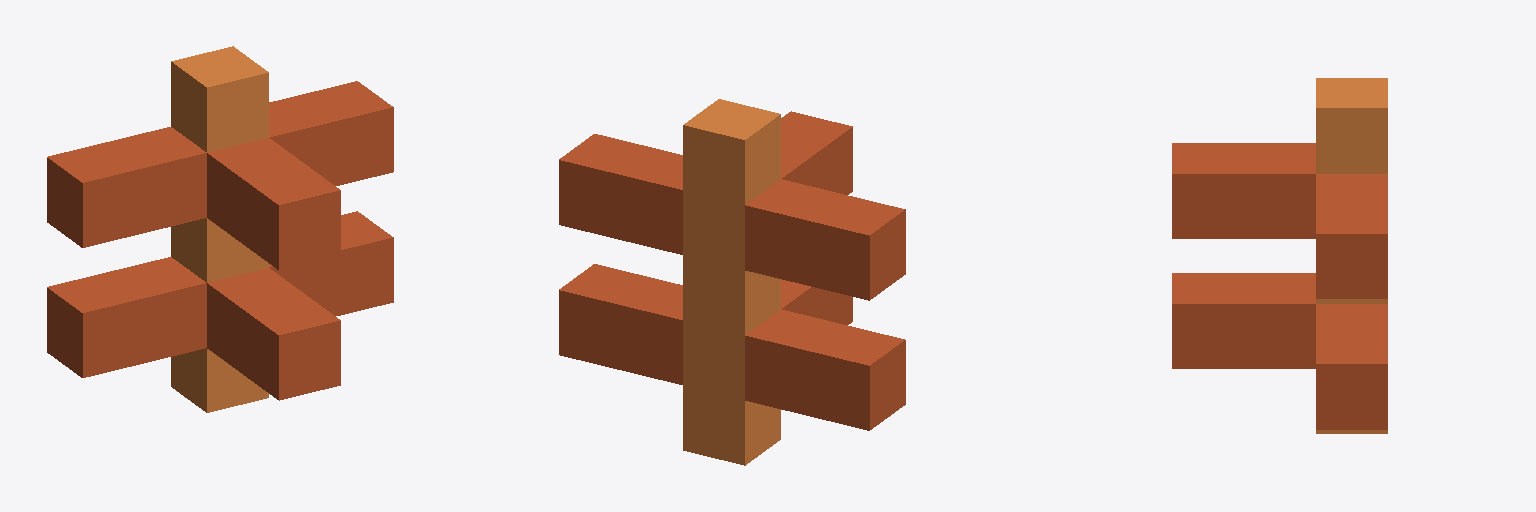
The picture shows the model from 3 angles: view 1: azimuth 30°, elevation 25°; view 2: azimuth 150°, elevation 25°; view 3: azimuth 270°, elevation 25°; orthographic projection.
Visible parts, largest first — view 1: object 1; view 2: object 1; view 3: object 1.
Part boxes in pixels (left/top/right/bottom): object 1: left=47, top=46, right=393, bottom=412; object 1: left=559, top=99, right=905, bottom=465; object 1: left=1172, top=78, right=1387, bottom=433.
Size of the model in its own units: 0.5 by 0.5 by 0.3.
Materials: 1 (1 with a texture image).